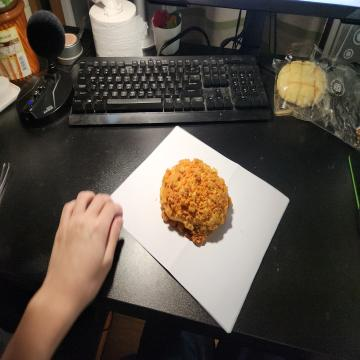soboru_bread: (156, 158, 230, 246)
